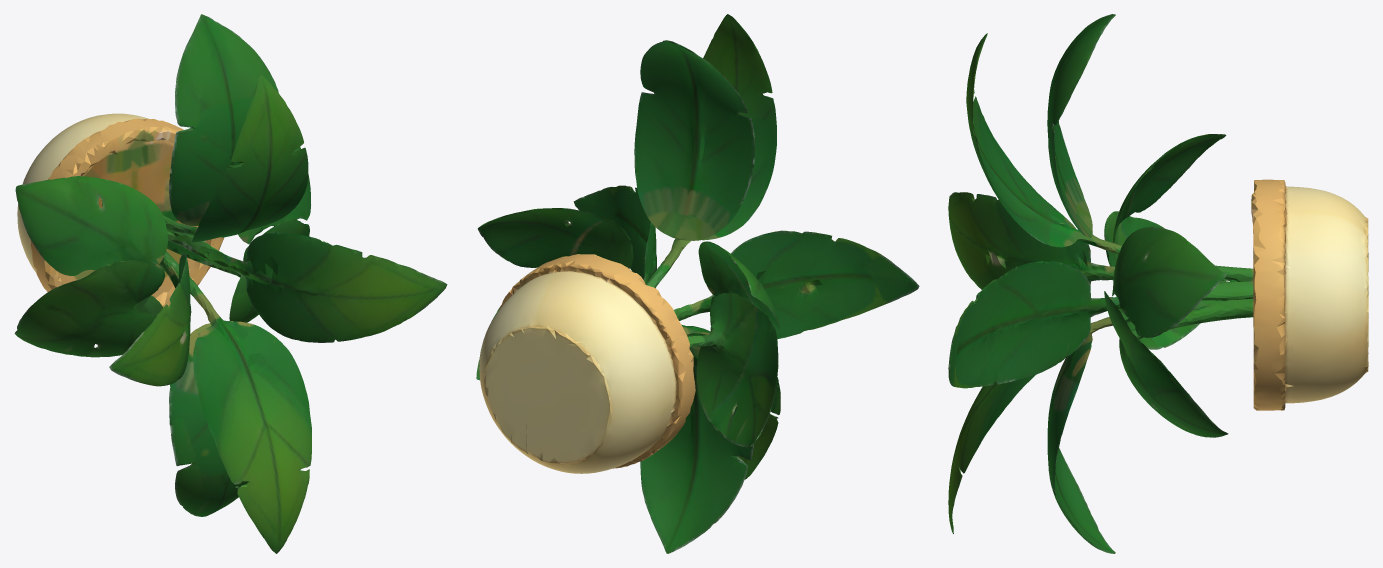
File: Prop_ShipPlant.glb
3 views of the same model, side by side, from view 1: azimuth 30°, elevation 25°; view 2: azimuth 150°, elevation 25°; view 3: azimuth 270°, elevation 25° (orthographic). The views are drawn at different scales.
Parts seen in each view (by area): view 1: Prop_ShipPlant; view 2: Prop_ShipPlant; view 3: Prop_ShipPlant.
Boxes of the visible parts, bbox=[...] form: Prop_ShipPlant: bbox=[14, 14, 447, 553]; Prop_ShipPlant: bbox=[476, 14, 919, 553]; Prop_ShipPlant: bbox=[948, 14, 1368, 553].
Size of the model in its own units: 0.9881 by 1.4 by 0.9895.
1 material, 1 textured.
